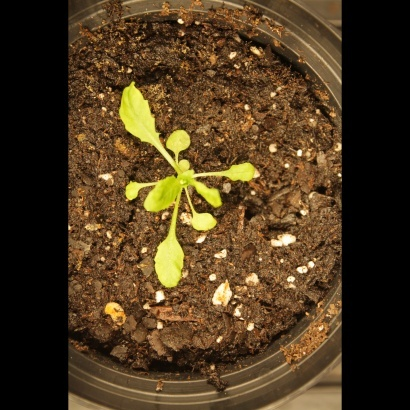leaf: (113, 78, 167, 158), (151, 233, 186, 295), (141, 174, 185, 215), (216, 161, 267, 186), (190, 171, 225, 207), (165, 124, 198, 157), (186, 209, 223, 235), (121, 174, 145, 208)
